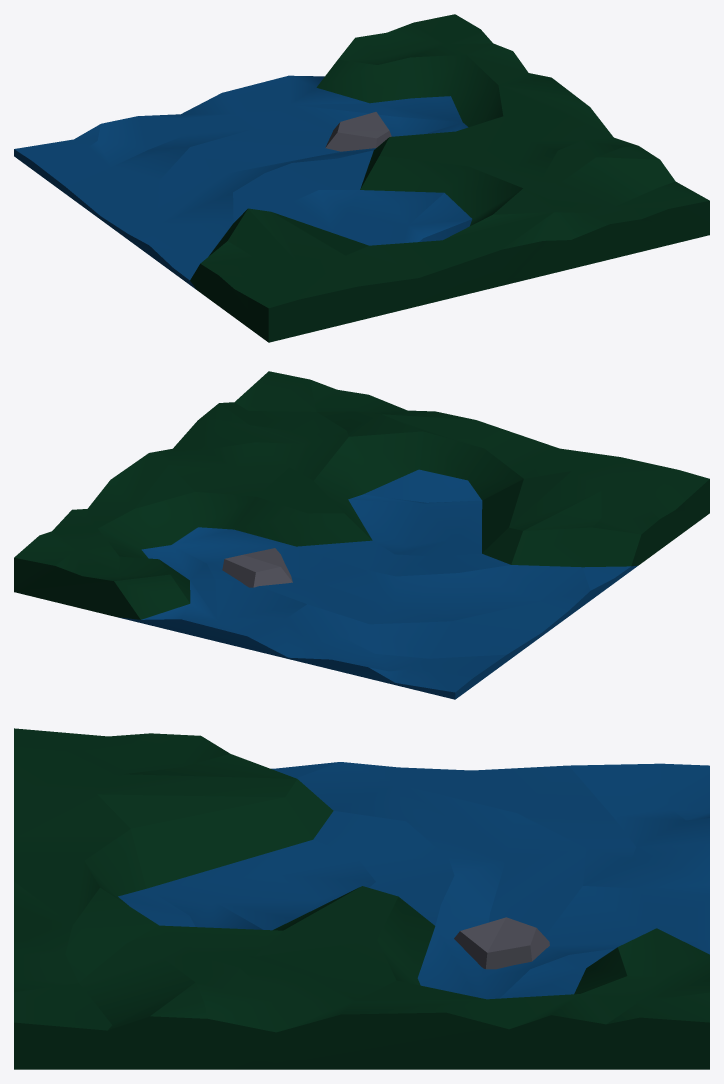
Rendered from Water_Corner_Internal_RB.fbx.
3 views of the same model, one above another, from view 1: azimuth 30°, elevation 25°; view 2: azimuth 150°, elevation 25°; view 3: azimuth 270°, elevation 25° (orthographic). The views are drawn at different scales.
Parts seen in each view (by area): view 1: Water_Corner_Internal_RB; view 2: Water_Corner_Internal_RB; view 3: Water_Corner_Internal_RB.
Part boxes in pixels (bbox=[...]): Water_Corner_Internal_RB: bbox=[14, 14, 709, 342]; Water_Corner_Internal_RB: bbox=[14, 371, 709, 699]; Water_Corner_Internal_RB: bbox=[14, 728, 709, 1069].
Size of the model in its own units: 147 by 13.54 by 147.
